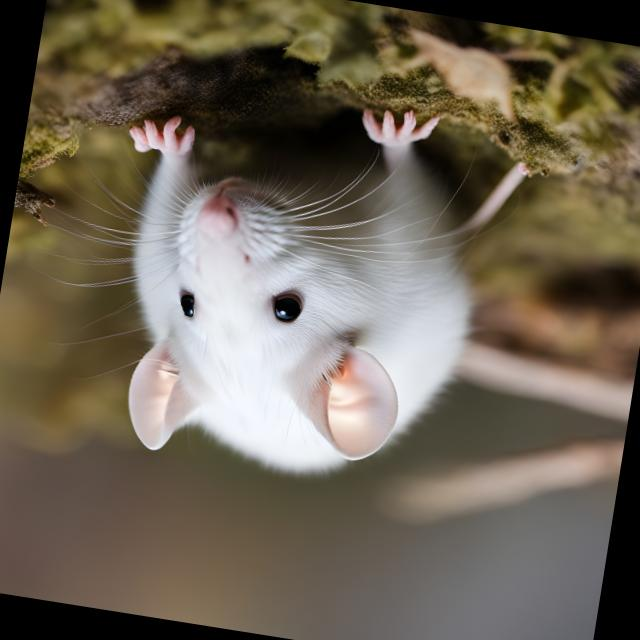rodents: (85, 60, 547, 541)
